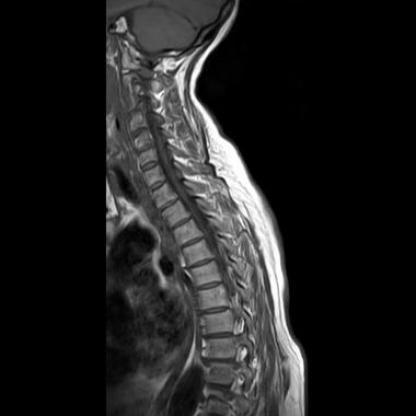Disc Bulgerotation: (139, 158, 164, 172)
